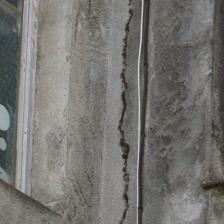Crack: (55, 2, 87, 222)
